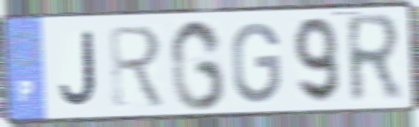9: (289, 16, 343, 106)
G: (168, 17, 228, 113), (230, 20, 283, 106)
J: (57, 29, 100, 109)
R: (343, 10, 405, 108), (106, 23, 169, 111)
